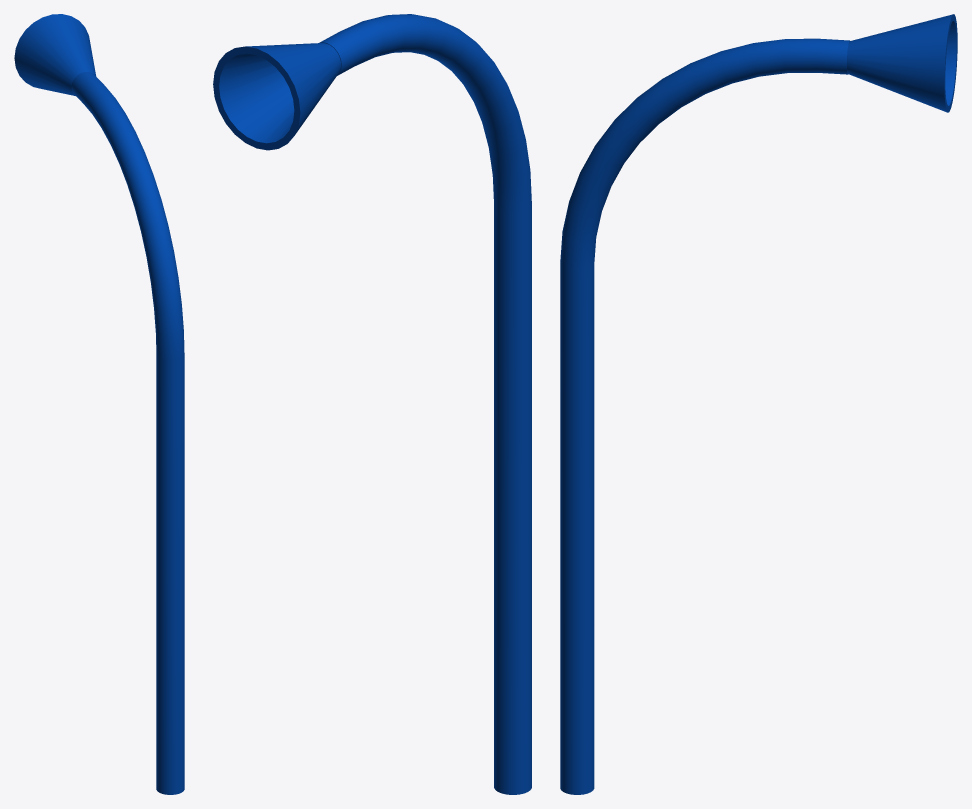
The model's file is cono2.dae.
The picture shows the model from 3 angles, left to right: view 1: azimuth 30°, elevation 25°; view 2: azimuth 150°, elevation 25°; view 3: azimuth 270°, elevation 25°; orthographic projection. The views are drawn at different scales.
Visible parts, largest first — view 1: group_2, group_1; view 2: group_2, group_1; view 3: group_2, group_1.
Part boxes in pixels (bbox=[...]): group_2: bbox=[71, 72, 184, 794]; group_1: bbox=[14, 14, 96, 95]; group_2: bbox=[319, 14, 531, 794]; group_1: bbox=[213, 43, 340, 150]; group_2: bbox=[560, 38, 849, 794]; group_1: bbox=[847, 14, 957, 112].
Size of the model in its own units: 6.7 by 22.82 by 50.1.
